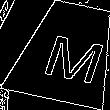M_N: (31, 22, 103, 82)
